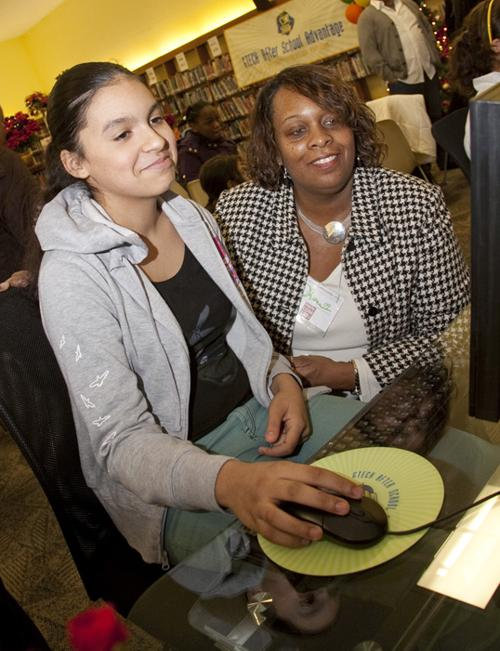person: (34, 60, 369, 571)
